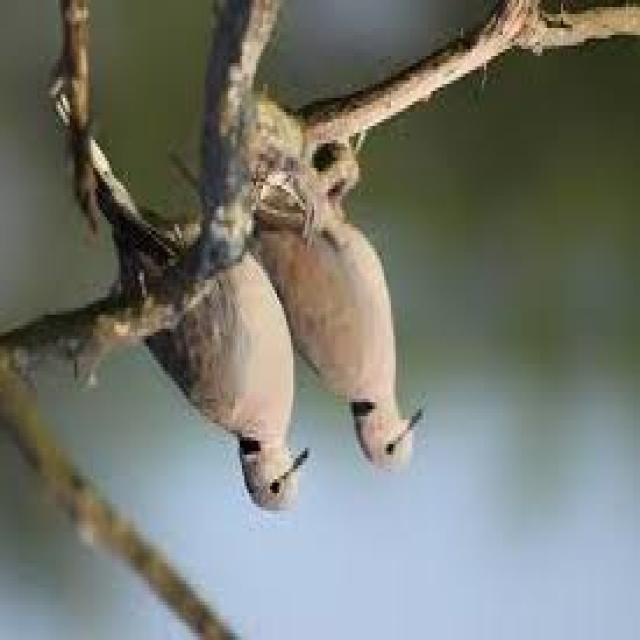pigeon: (130, 142, 317, 524)
